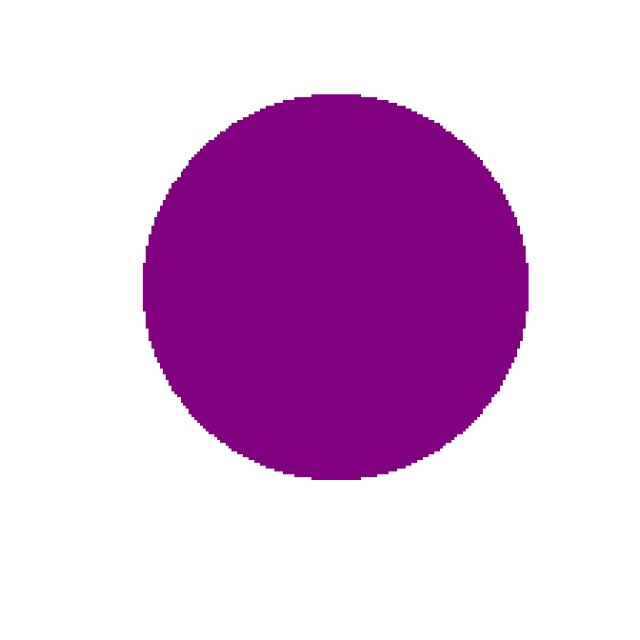Circle: (113, 69, 544, 488)
